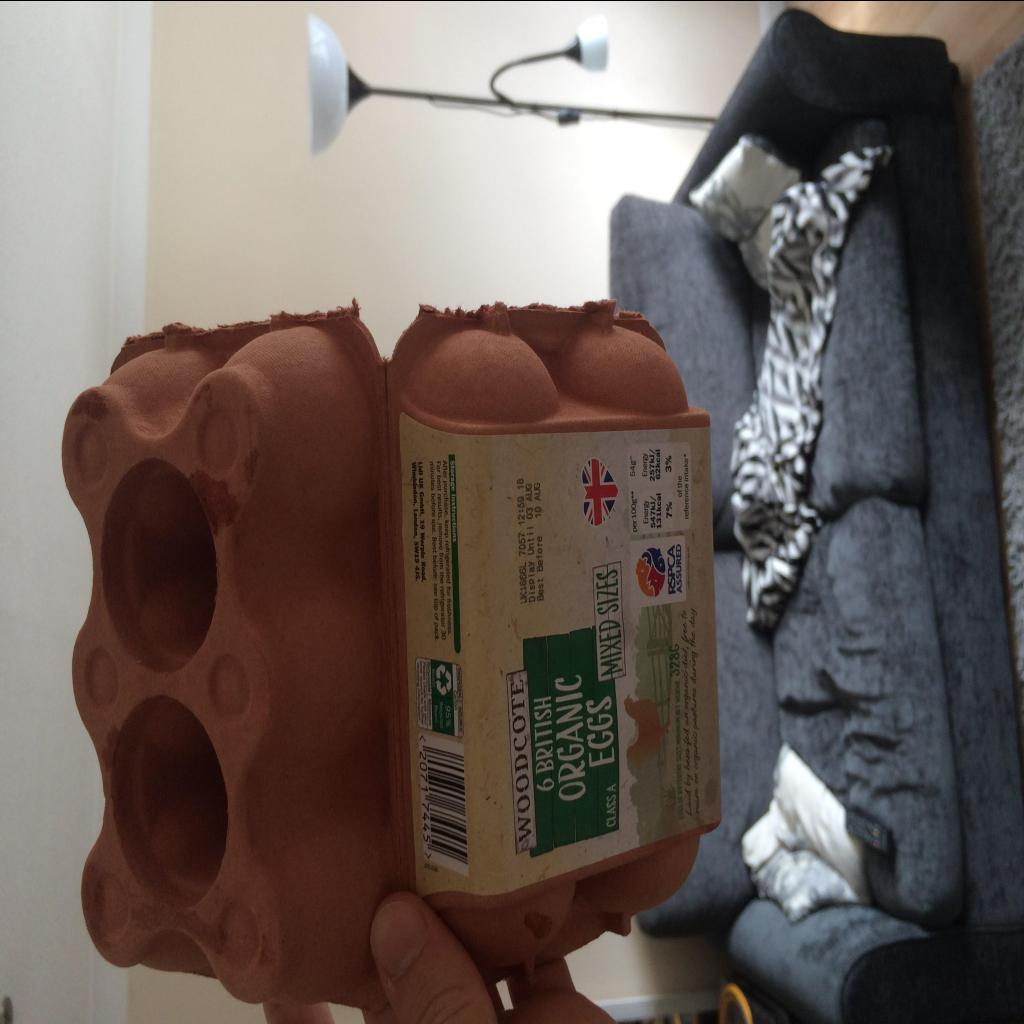Egg carton: (61, 300, 722, 1011)
